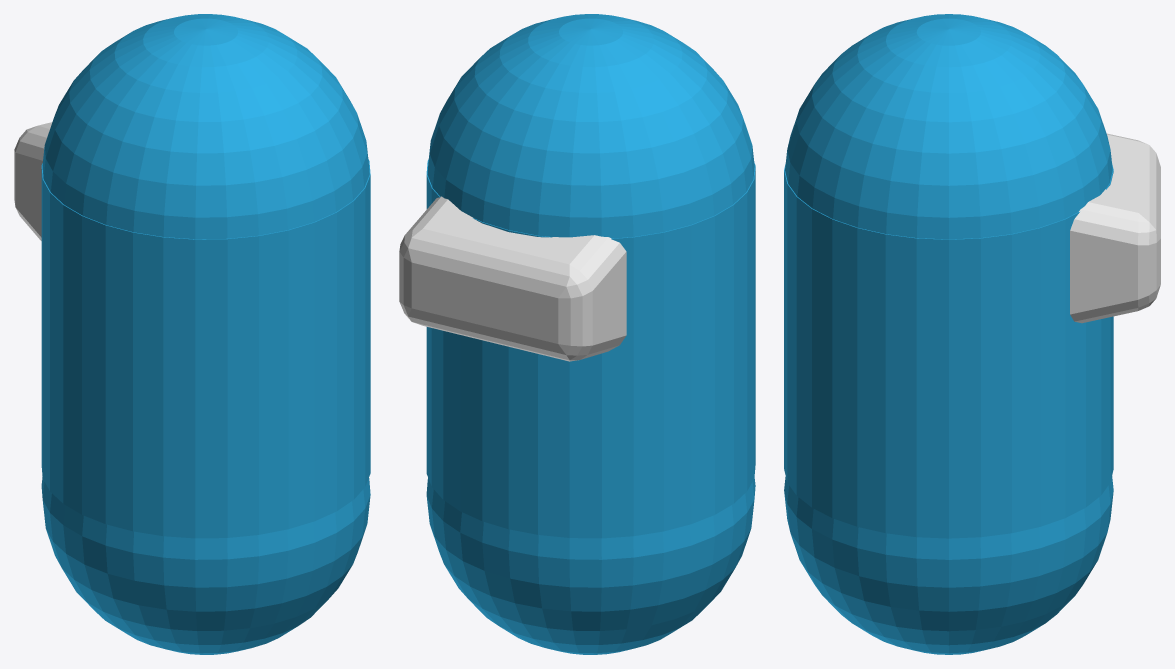
Rendered from Shibi.glb.
The picture shows the model from 3 angles, left to right: view 1: azimuth 30°, elevation 25°; view 2: azimuth 150°, elevation 25°; view 3: azimuth 270°, elevation 25°; orthographic projection.
Visible parts, largest first — view 1: Shibi; view 2: Shibi; view 3: Shibi.
Boxes of the visible parts, bbox=[...] form: Shibi: bbox=[14, 14, 370, 654]; Shibi: bbox=[399, 14, 755, 654]; Shibi: bbox=[784, 14, 1160, 654].
Size of the model in its own units: 2 by 4.09 by 2.29.
